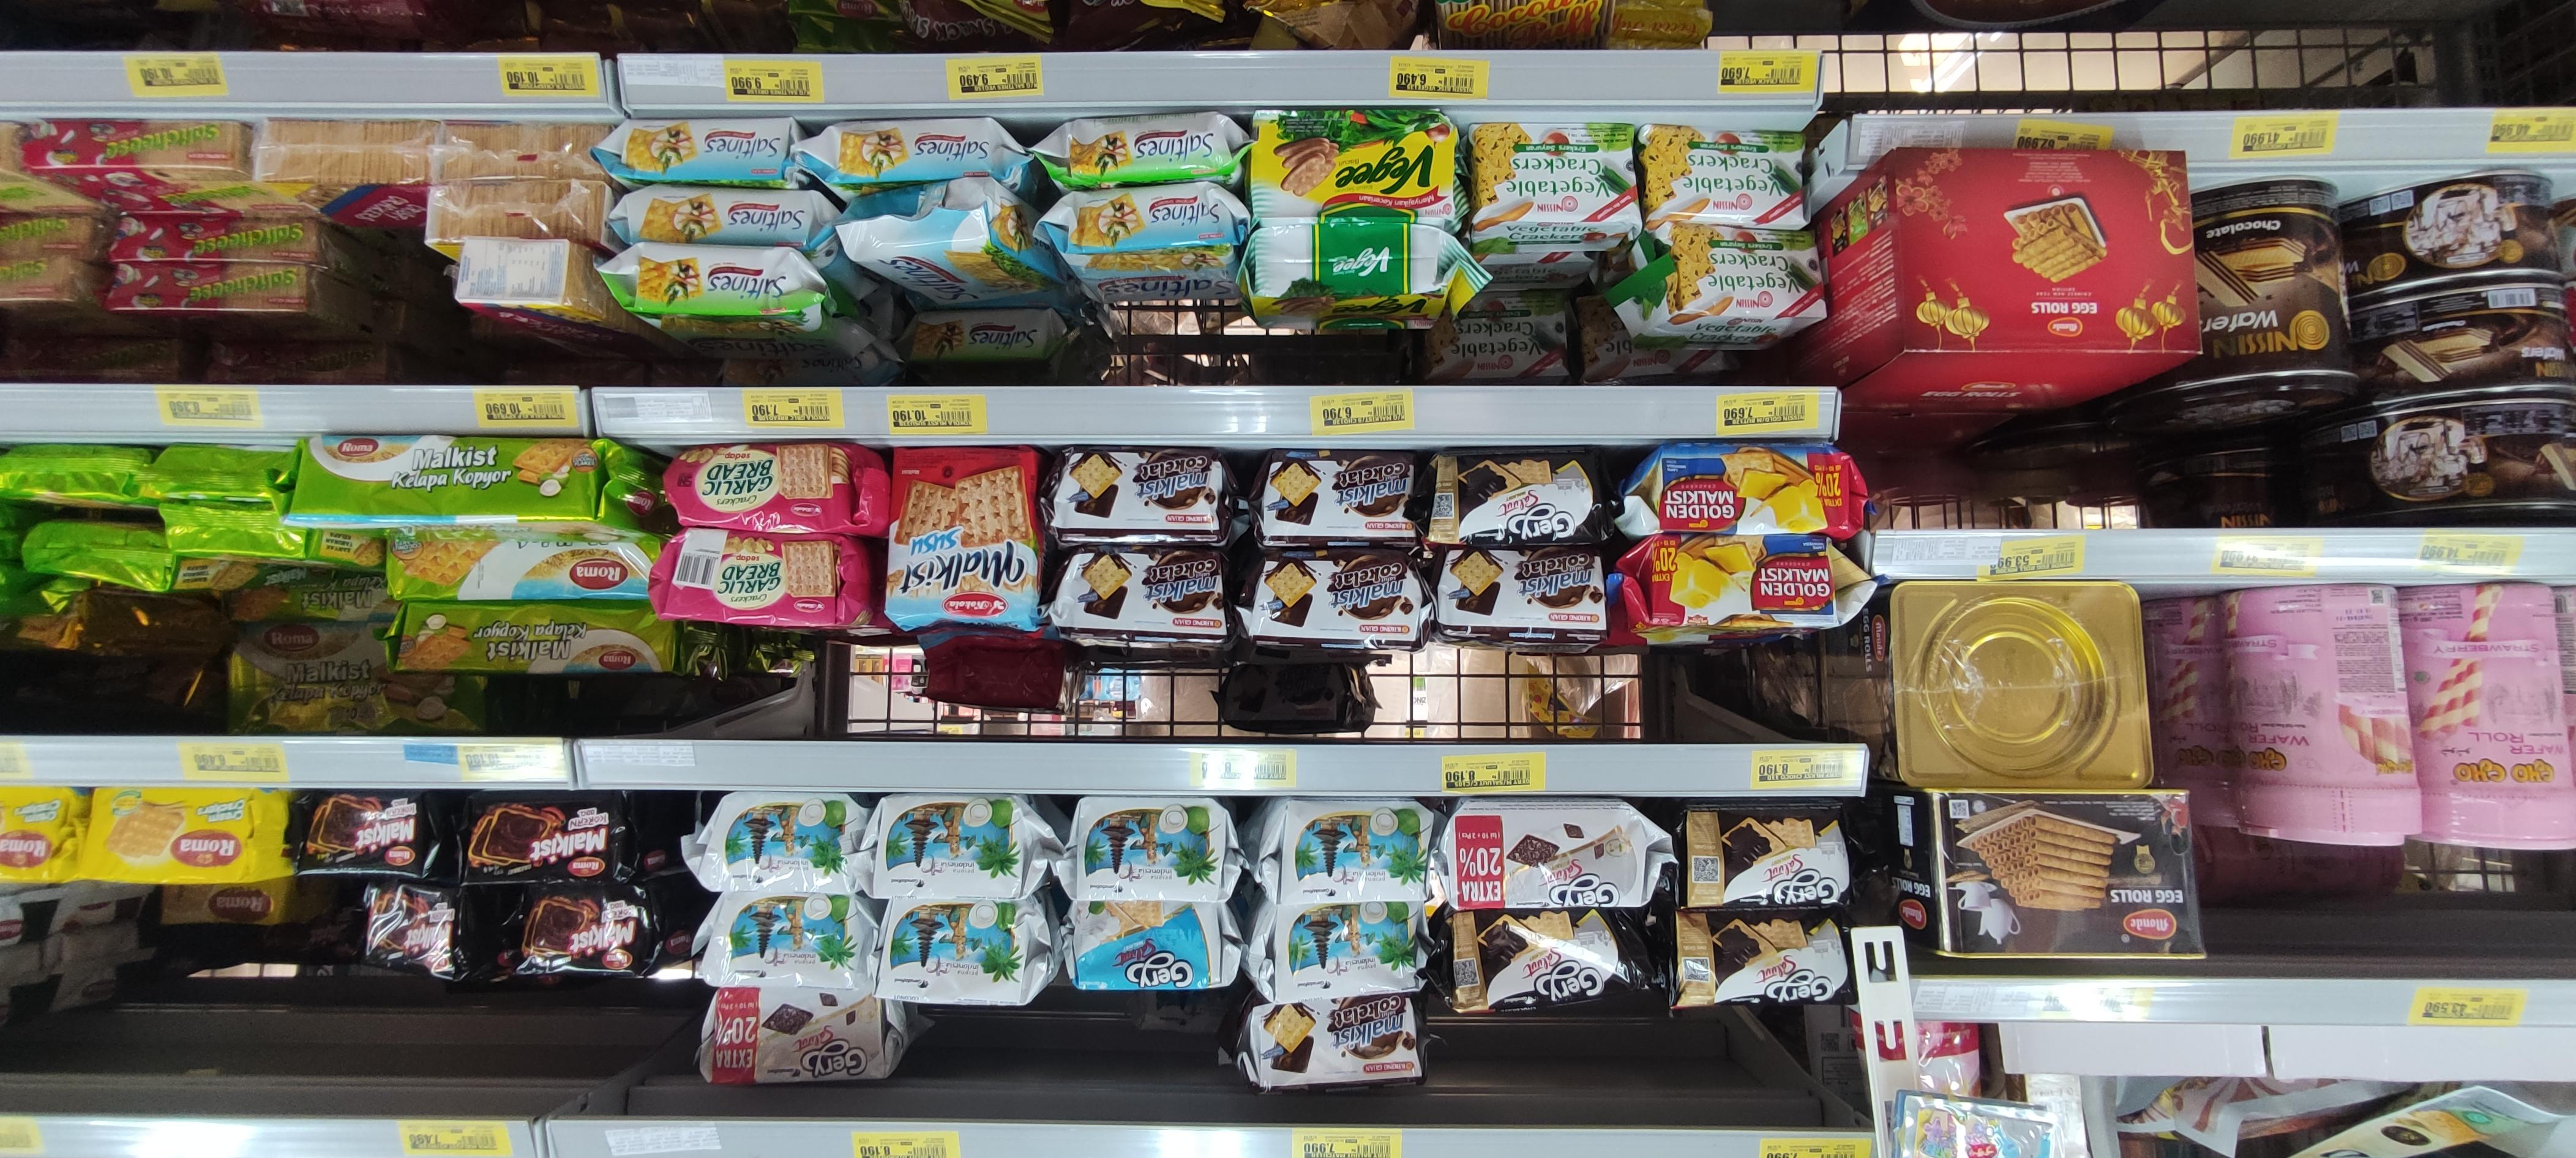90101225202100: (1446, 908, 1666, 1013), (1677, 802, 1850, 908), (1674, 912, 1856, 1009), (1428, 452, 1603, 547)
90101225209100: (874, 793, 1023, 902), (877, 897, 1027, 1005), (706, 790, 859, 894), (1076, 795, 1226, 900), (1281, 800, 1429, 902), (713, 892, 866, 990), (1273, 900, 1423, 992), (1074, 900, 1222, 989)
90101225218101: (1449, 810, 1644, 910), (710, 987, 884, 1084)
ChoChoWaferRoll: (2395, 585, 2576, 849)
KhongGuanMalkistSalutCokelat: (1051, 549, 1227, 639), (1252, 995, 1421, 1087), (1250, 547, 1421, 637), (1050, 447, 1221, 532), (1434, 547, 1605, 629), (1262, 450, 1415, 539)
KhongGuanSaltcheeseCrackers: (23, 118, 237, 169), (105, 218, 319, 261), (104, 264, 306, 309)
KokolaCrackersGarlicBread: (664, 527, 839, 624), (674, 442, 853, 531)
KokolaMalkistSusu: (889, 447, 1038, 624)
MondeEggRolls: (1927, 790, 2201, 958)
MondeEggRollsChineseNewYearPackage: (1894, 149, 2201, 352)
NissinGoldenMalkist: (1646, 535, 1833, 627), (1659, 445, 1845, 534)
NissinVegeeBiscuit: (1250, 108, 1456, 220), (1252, 222, 1446, 297)
NissinVegetableCrackers: (1640, 125, 1804, 228), (1469, 123, 1640, 222), (1668, 223, 1824, 317)
RomaMalkistCreamCrackers: (84, 785, 255, 882)
RomaMalkistKelapaKopyor: (287, 435, 598, 519), (391, 604, 674, 673)
RomaMalkistKoreanBBQ: (465, 793, 628, 887), (498, 884, 654, 976), (296, 788, 427, 874)
SaltinesOriginalCrackers: (1068, 187, 1234, 253), (629, 187, 810, 246), (619, 118, 789, 181), (826, 120, 996, 181)
SaltinesVegetableCrackers: (632, 245, 797, 315), (1066, 115, 1230, 181), (909, 310, 1053, 360)
